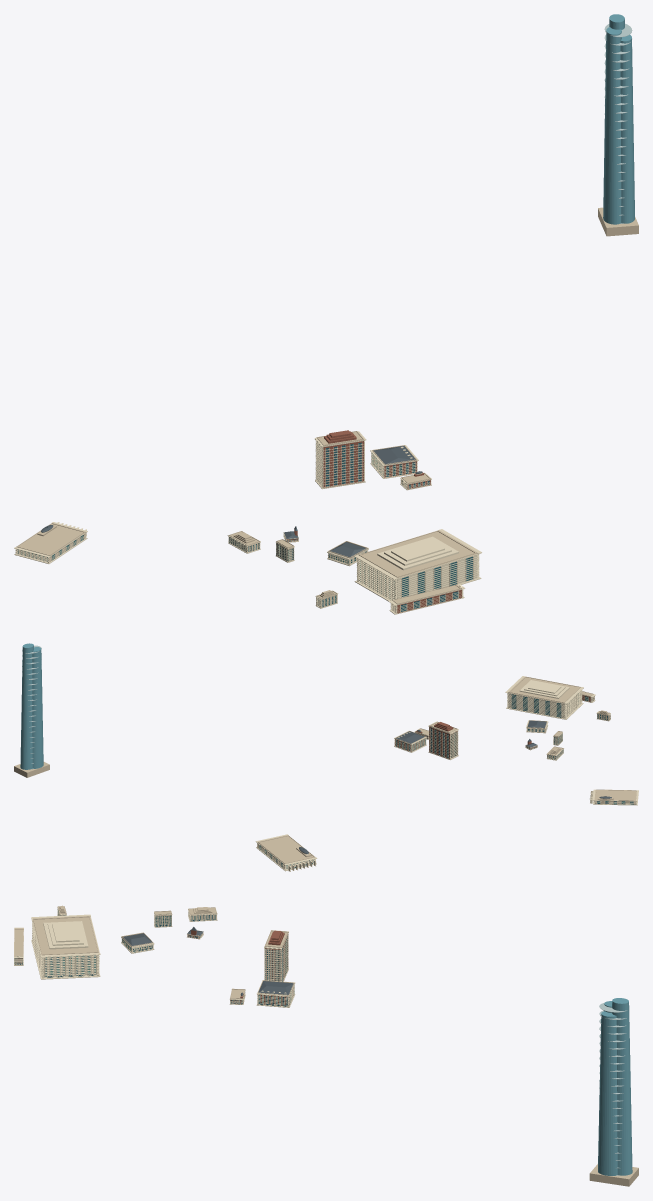
File: suzhou-north-bund.glb
3 renders of one model, top to bottom at view 1: azimuth 30°, elevation 25°; view 2: azimuth 150°, elevation 25°; view 3: azimuth 270°, elevation 25°, orthographic. The views are drawn at different scales.
Parts seen in each view (by area): view 1: white-magnolia.001, peninsula-hotel.001, broadway-mansions.001, postal-museum.001, astor-house.001, yifeng-building.001; view 2: white-magnolia.001, peninsula-hotel.001, broadway-mansions.001, postal-museum.001, astor-house.001, british-consulate.001; view 3: white-magnolia.001, peninsula-hotel.001, postal-museum.001, broadway-mansions.001, astor-house.001, british-consulate.001.
Part boxes in pixels (x1,y1,x2,y2): white-magnolia.001: (598, 14, 638, 236); peninsula-hotel.001: (354, 529, 481, 601); broadway-mansions.001: (314, 430, 366, 489); postal-museum.001: (14, 522, 87, 563); astor-house.001: (370, 445, 418, 478); yifeng-building.001: (389, 584, 465, 614); white-magnolia.001: (14, 643, 49, 777); peninsula-hotel.001: (505, 676, 583, 719); broadway-mansions.001: (428, 721, 458, 759); postal-museum.001: (590, 789, 638, 805); astor-house.001: (394, 730, 426, 752); british-consulate.001: (526, 720, 548, 733); white-magnolia.001: (589, 998, 638, 1186); peninsula-hotel.001: (31, 914, 100, 979); postal-museum.001: (255, 834, 317, 871); broadway-mansions.001: (264, 930, 288, 981); astor-house.001: (256, 980, 295, 1007); british-consulate.001: (121, 932, 154, 953).
Size of the model in its own units: 1334 by 320 by 1018.
